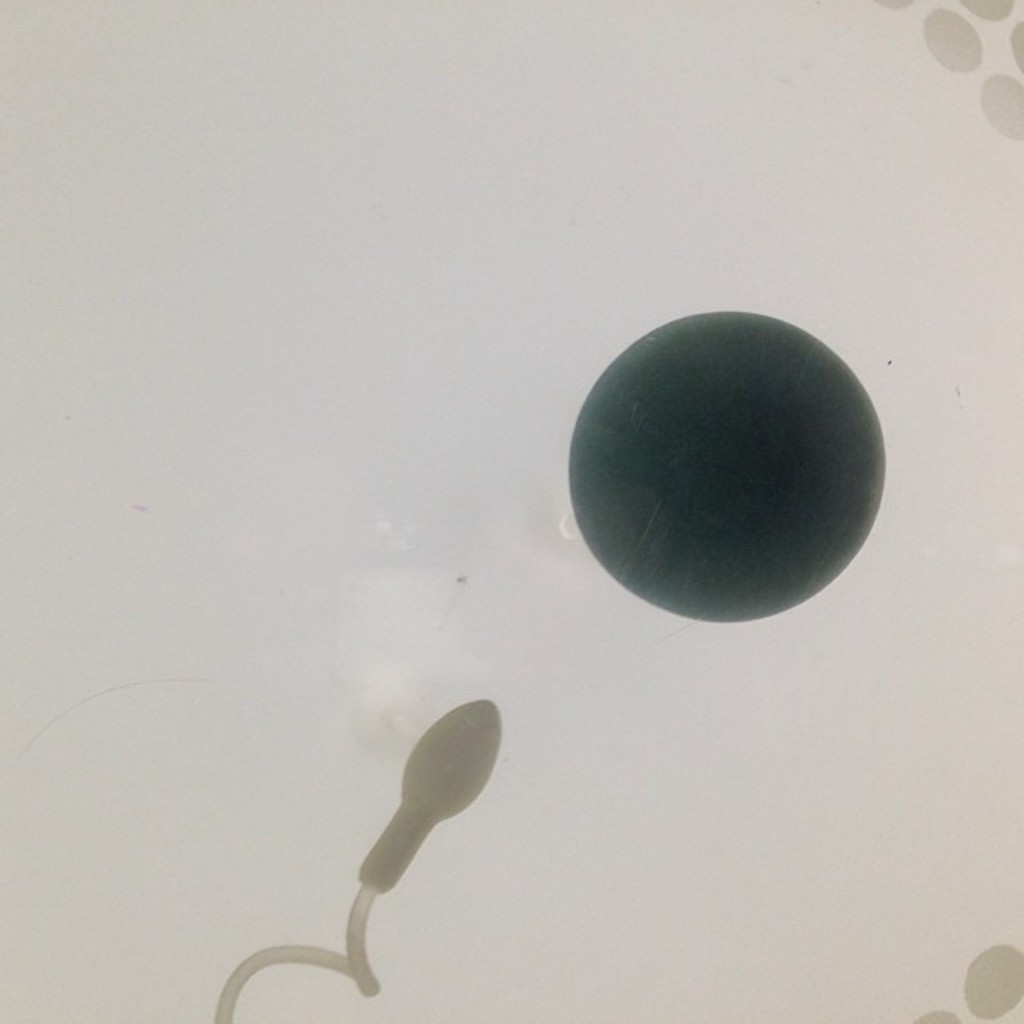Ball: (566, 304, 890, 621)
